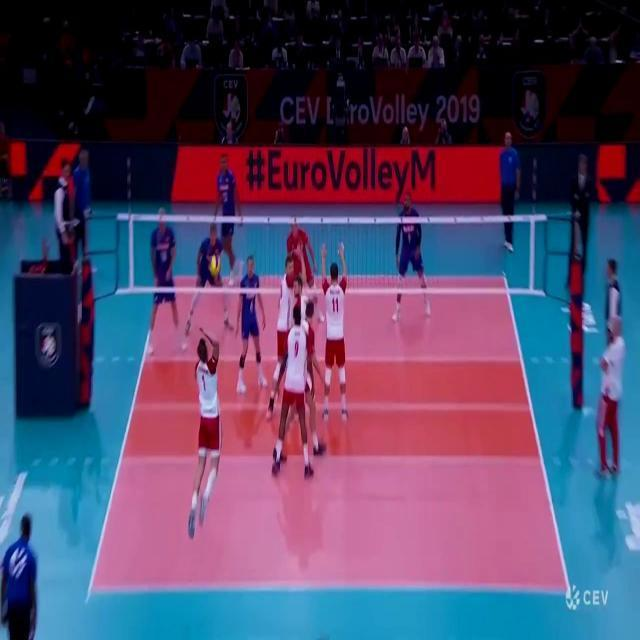volleyball: (208, 252, 222, 274)
